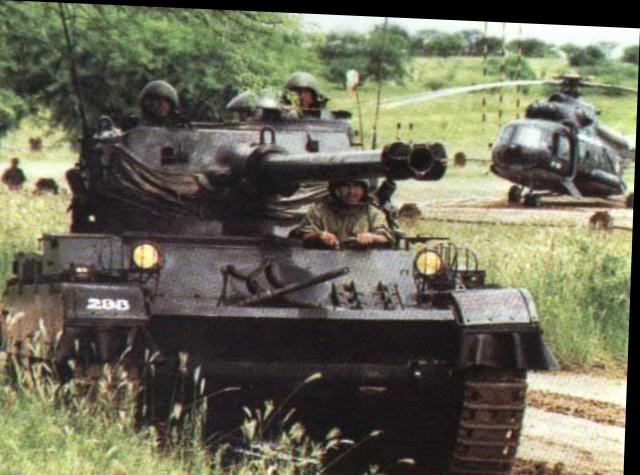other: (292, 158, 385, 255), (100, 65, 194, 137), (262, 52, 328, 121)
tank: (0, 42, 545, 474)
